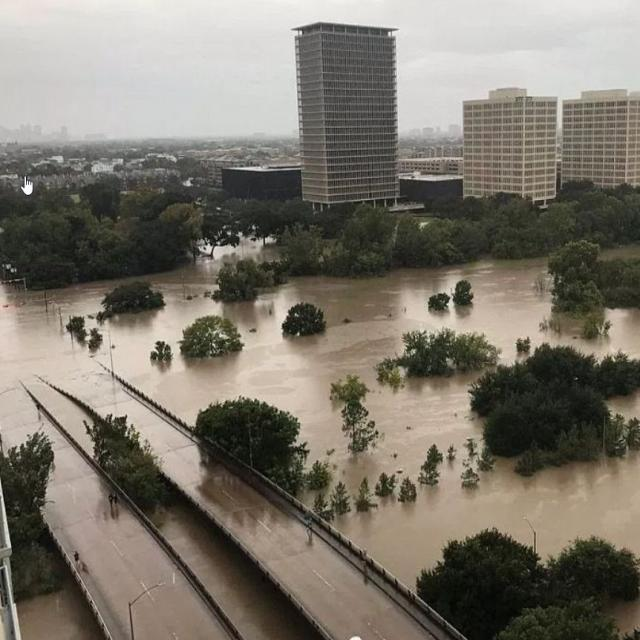flood: (0, 242, 640, 586), (151, 490, 323, 640), (20, 376, 93, 456), (16, 576, 104, 640), (604, 600, 640, 634), (611, 391, 640, 418)
house: (288, 20, 407, 215), (459, 82, 560, 206), (564, 82, 640, 188)
